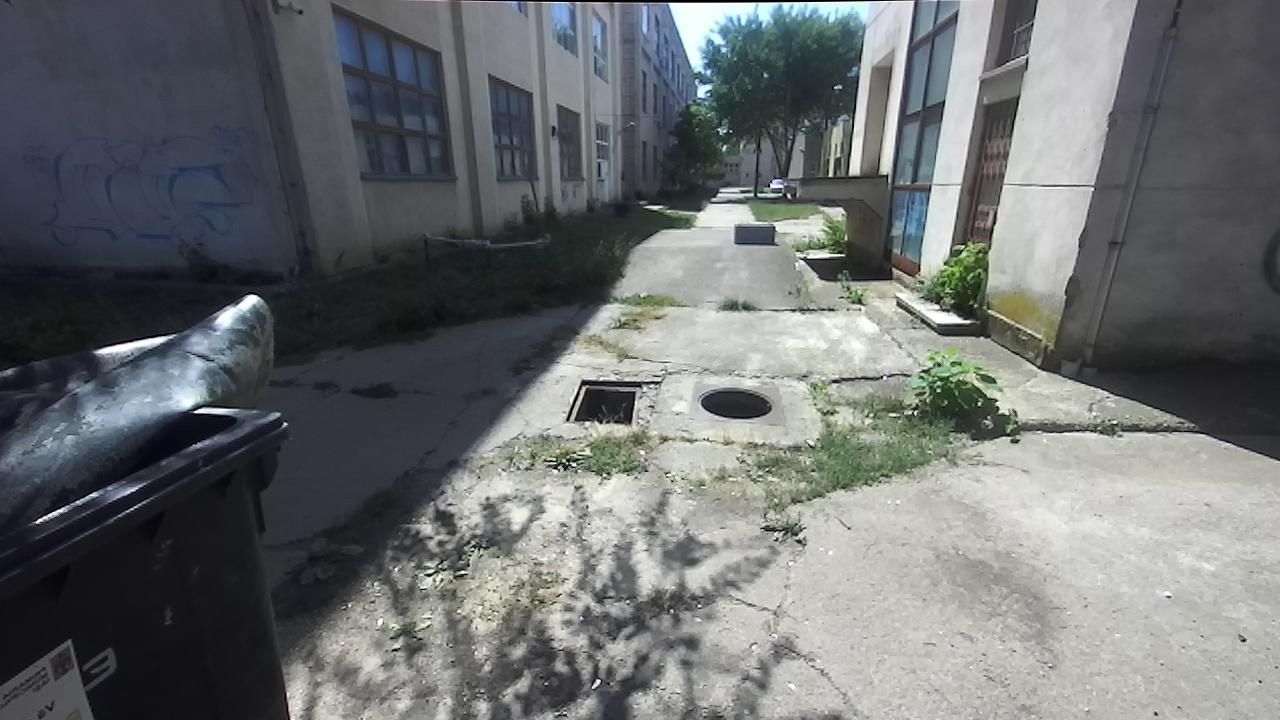drain: (559, 374, 644, 429), (690, 384, 775, 419)
